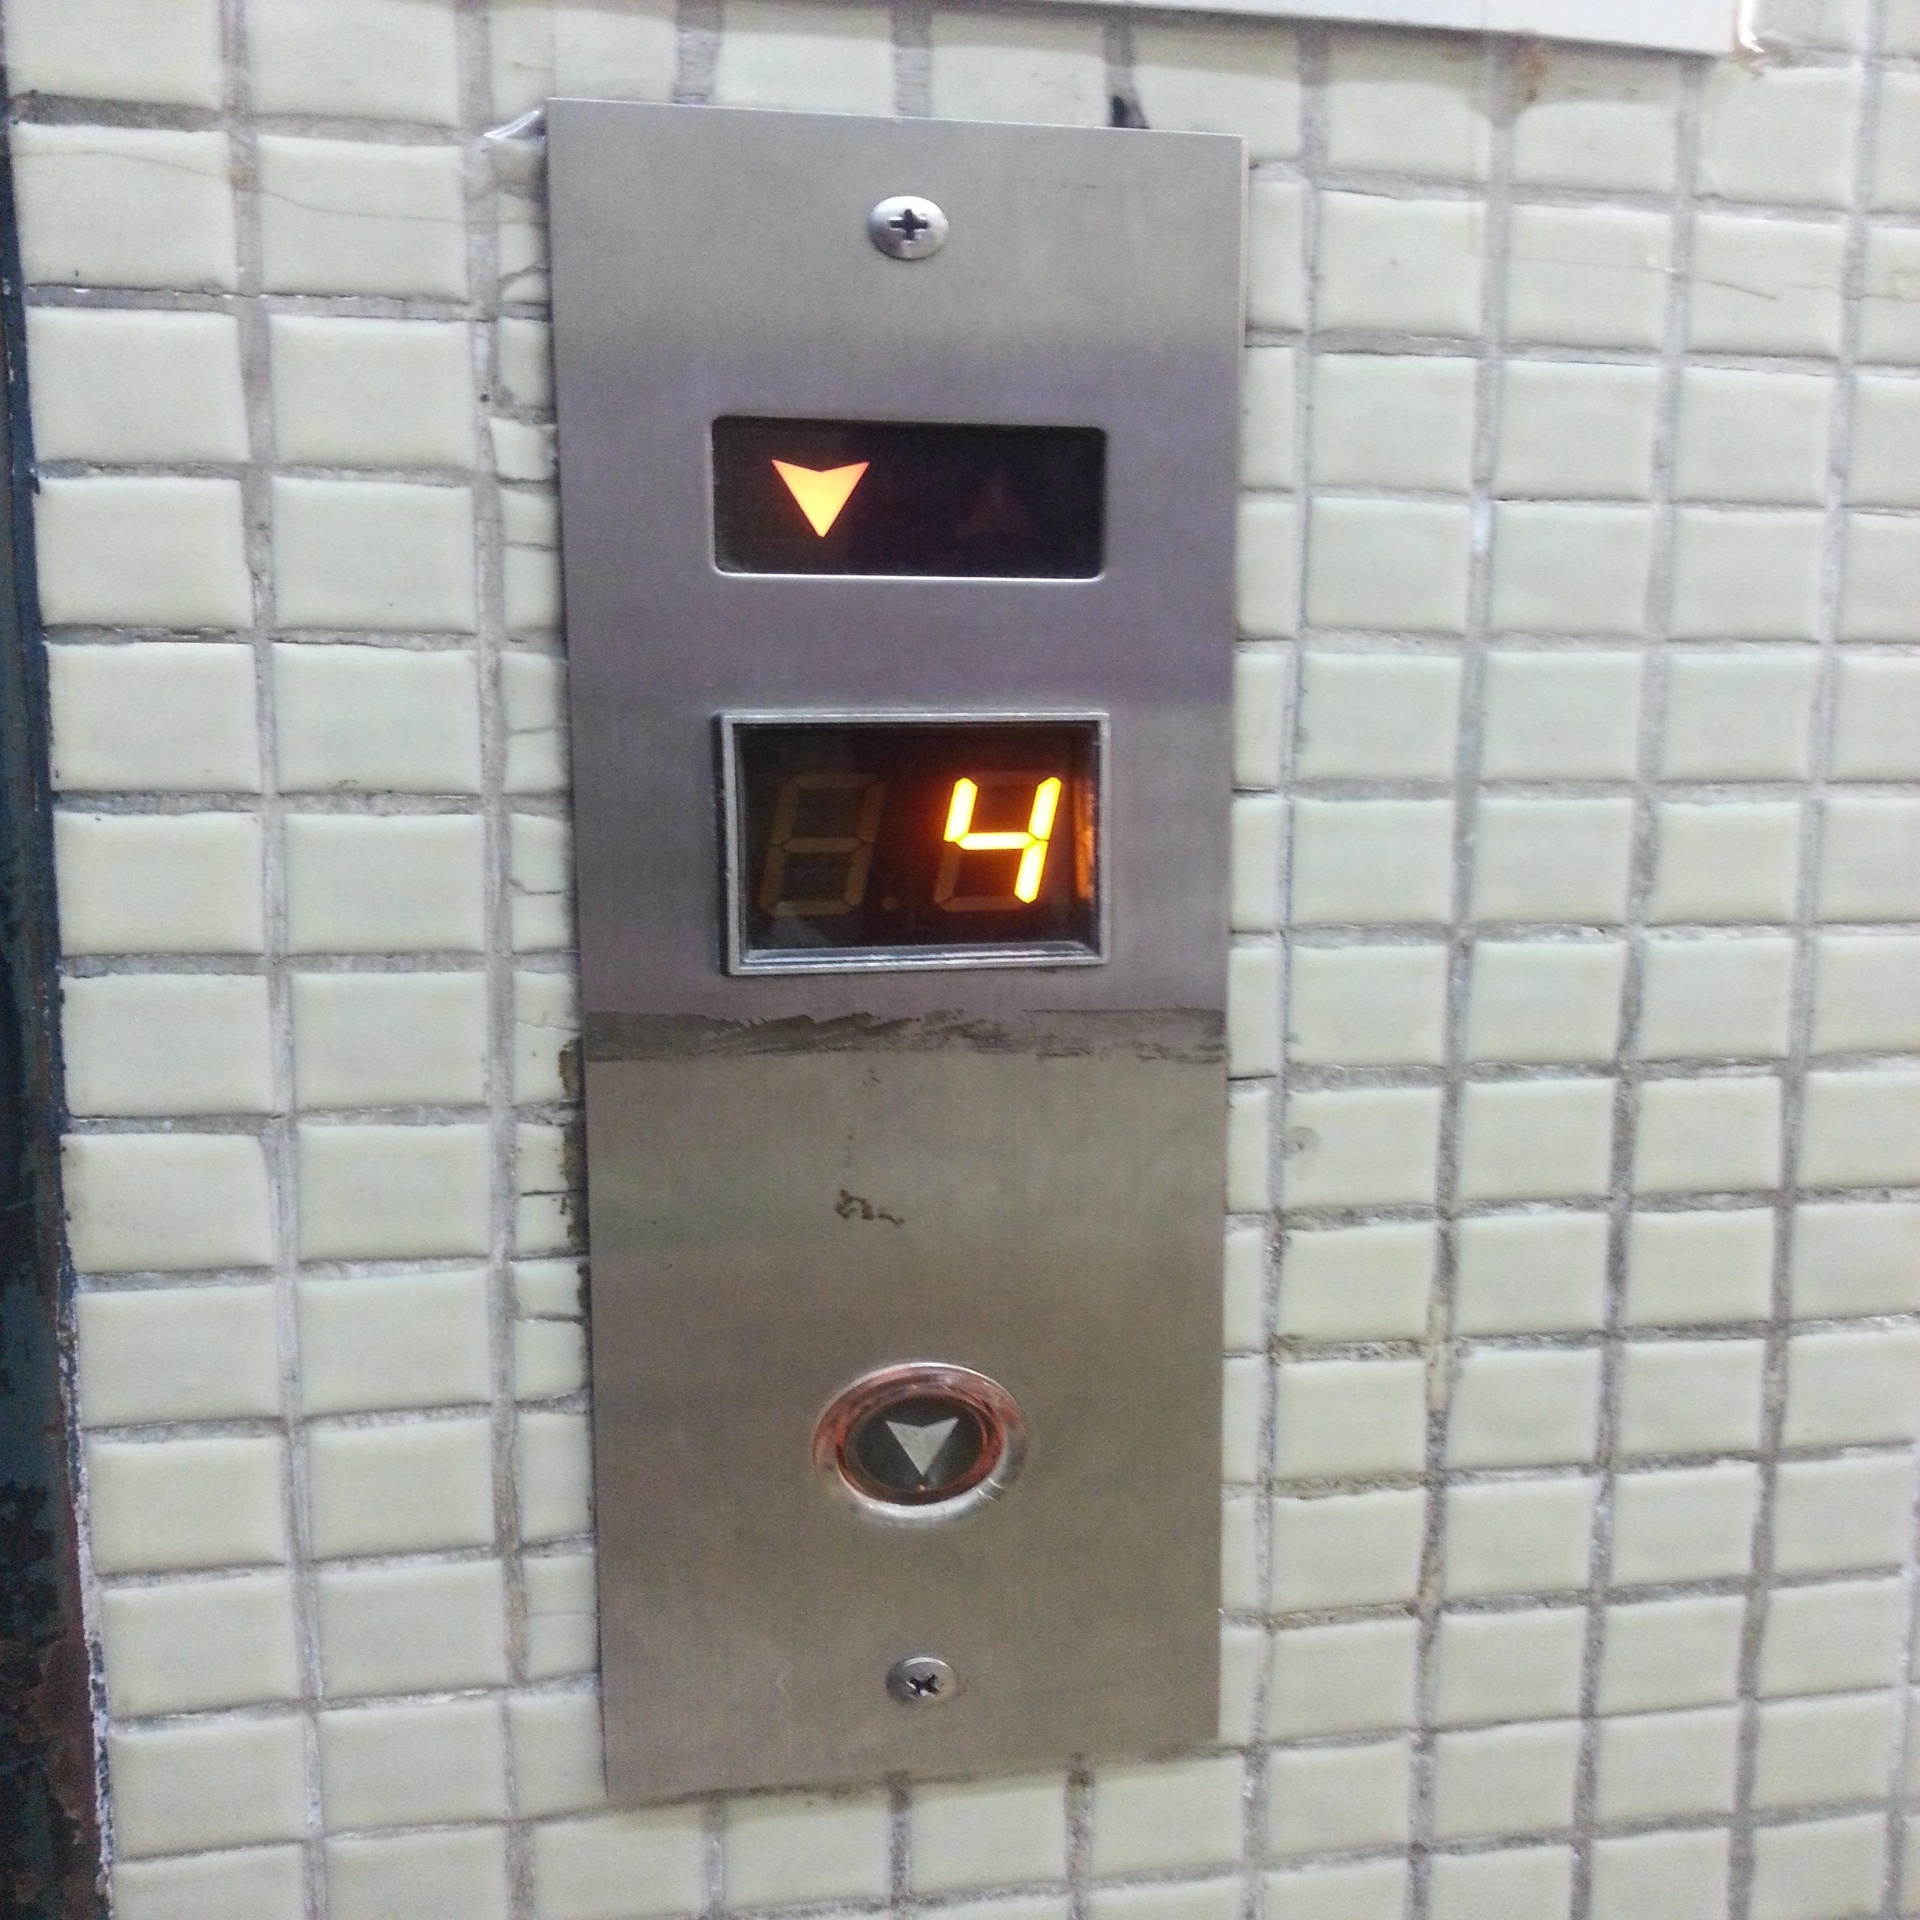down: (789, 1354, 1044, 1531)
led: (714, 702, 1125, 983), (700, 404, 1118, 594)
